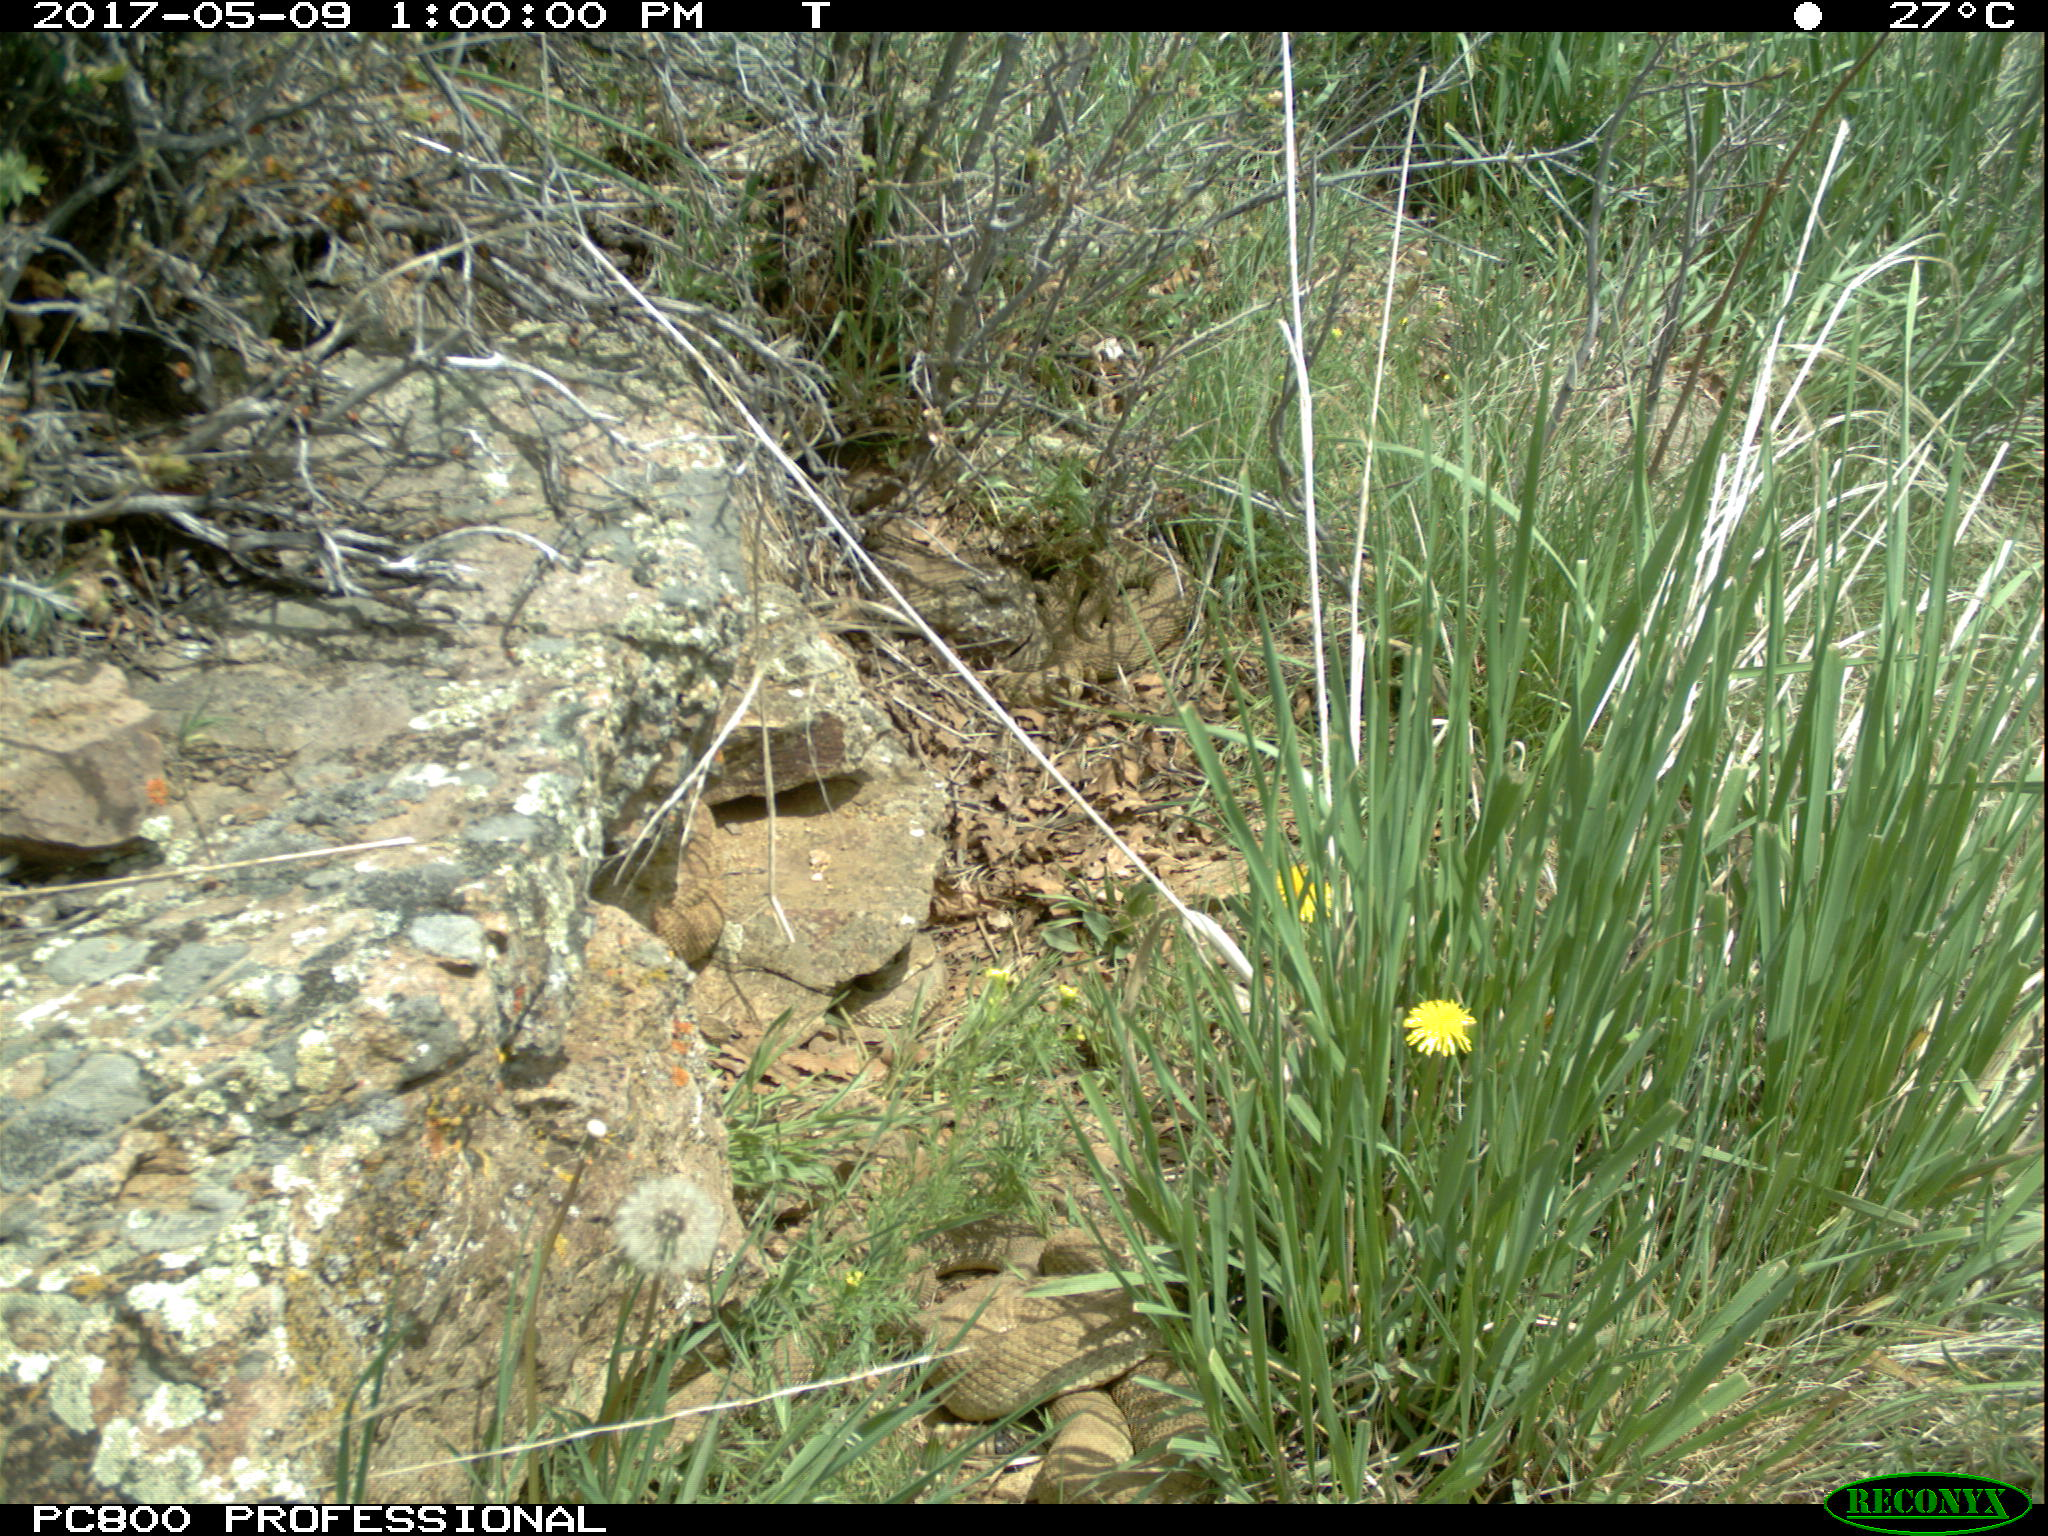snake: (913, 1212, 1221, 1504), (1039, 539, 1197, 679), (618, 795, 731, 962)
